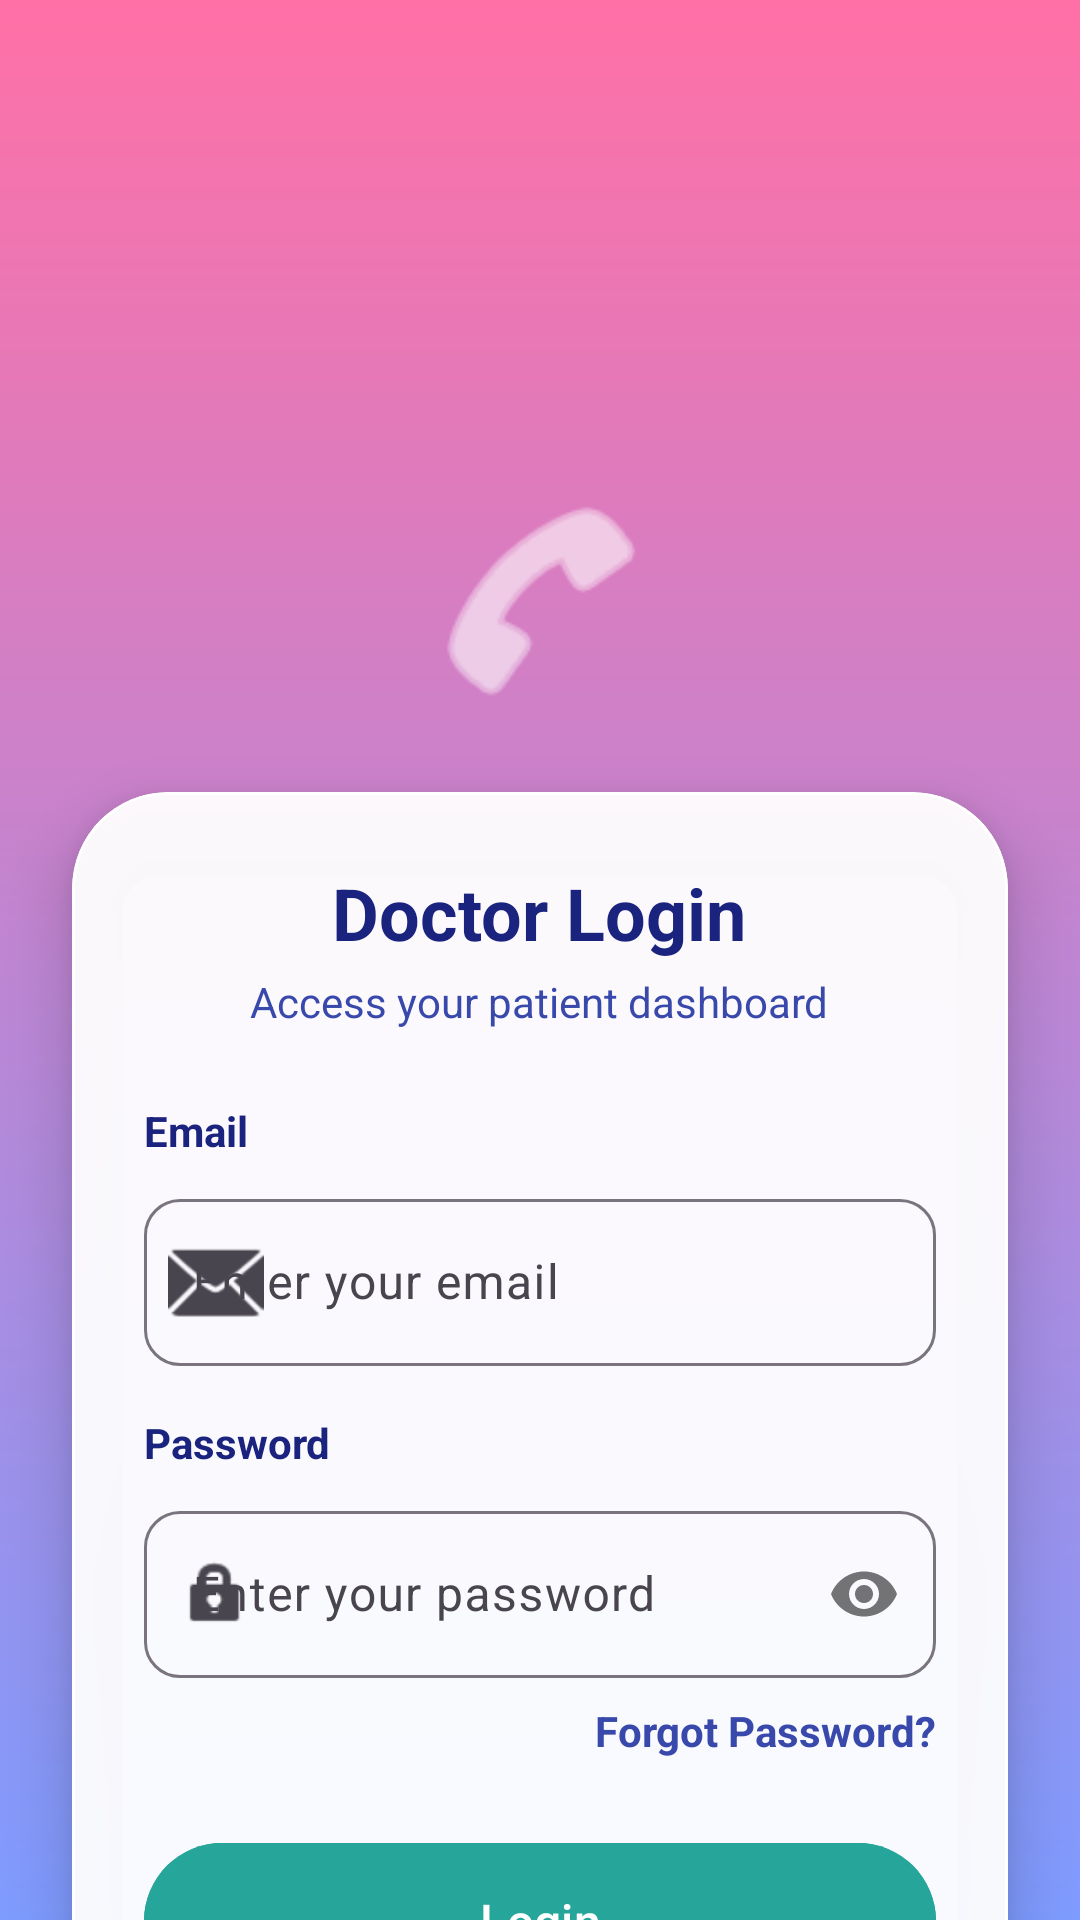

Icon bounding boxes for this 1080px×1920px phone screenshot, format {"left": x1, "top": y1, "right": x2, "bottom": y2}:
call: {"left": 420, "top": 507, "right": 660, "bottom": 720}
